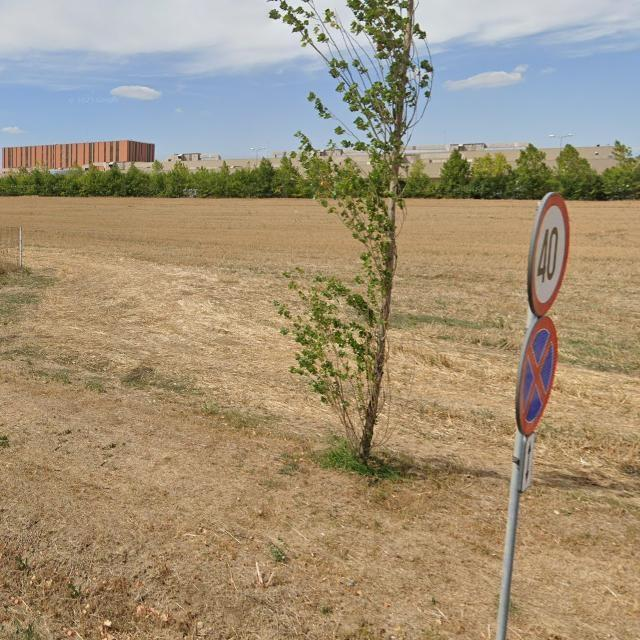forb_speed_over_40: (528, 192, 570, 317)
forb_waiting: (516, 314, 560, 436)
